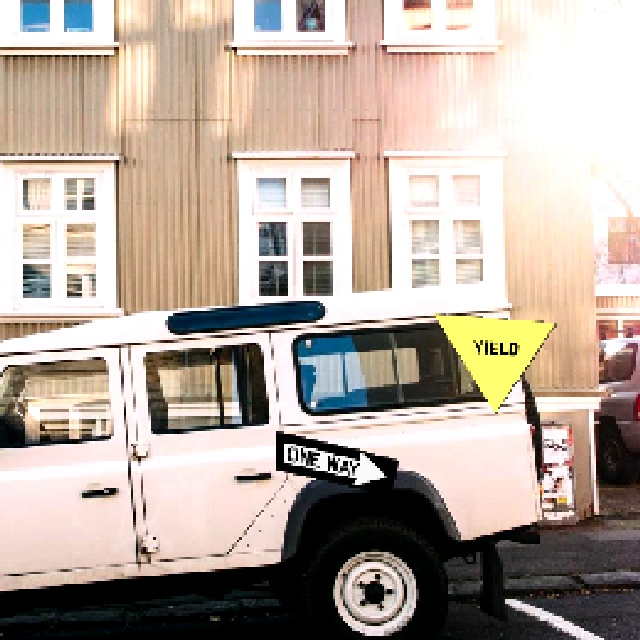ONE_WAY_ right: (273, 428, 398, 494)
YIELD: (430, 311, 555, 413)
